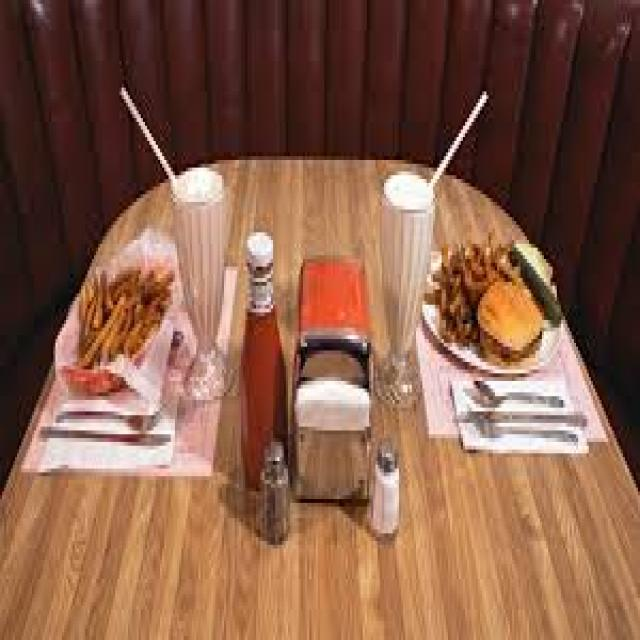Burger: (480, 270, 544, 362)
French Fries: (72, 248, 175, 381), (433, 232, 478, 343)
